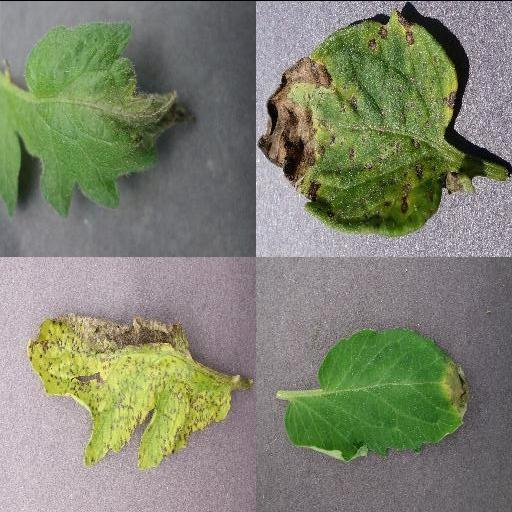Late Blight: (0, 20, 198, 218), (284, 325, 470, 461)
Septoria: (258, 6, 458, 235), (23, 314, 231, 470)
